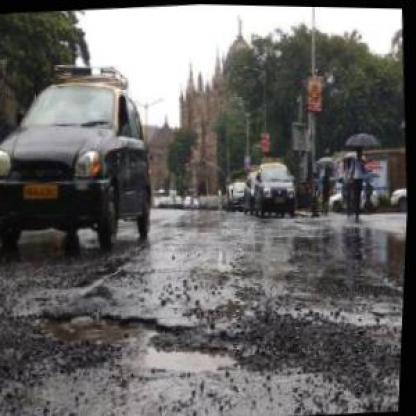pothole: (39, 304, 173, 352), (142, 330, 246, 379)
